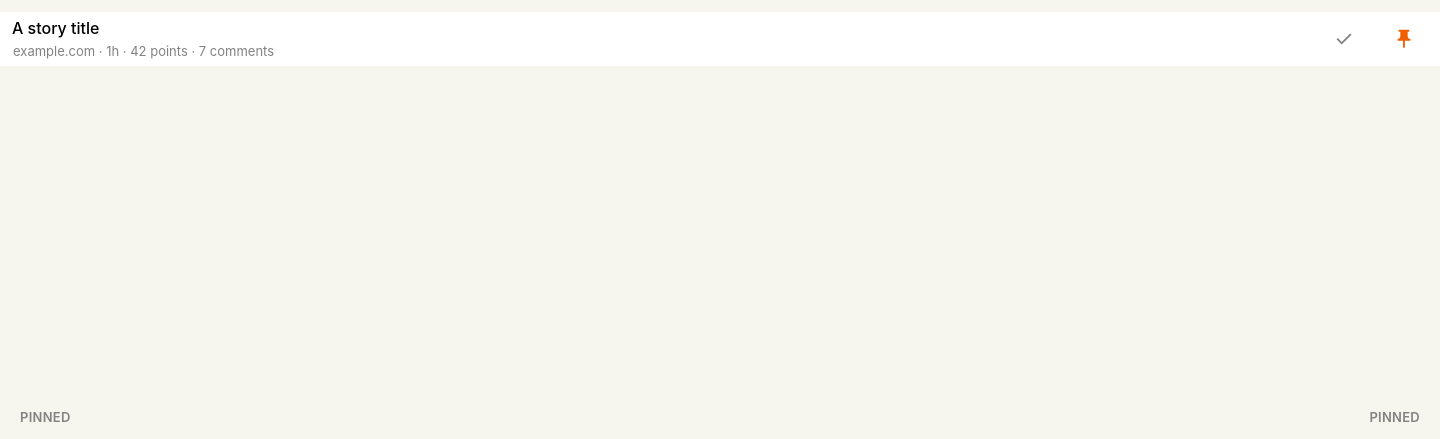
it: StoryListItem long-press menu › shows Unpin instead of Pin when the story is already pinned
Press the mouse on the element with test id "story-row" at (720, 39), box top-left (0, 12), bottom-right (1439, 66)
Wait 600 ms
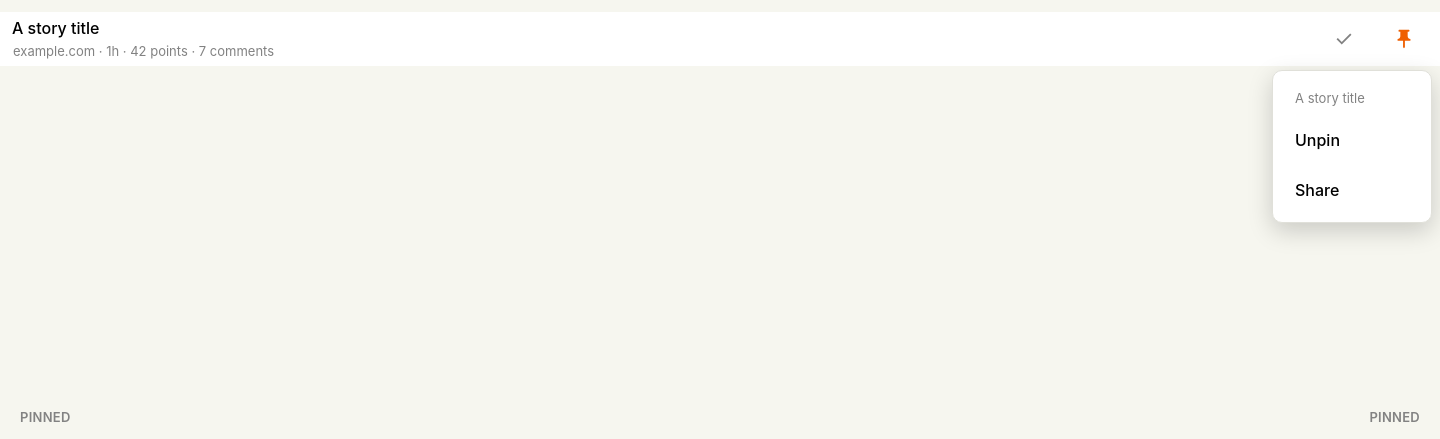
Now the menu item with test id "story-row-menu-unpin" is shown, box top-left (1279, 115), bottom-right (1425, 165)
